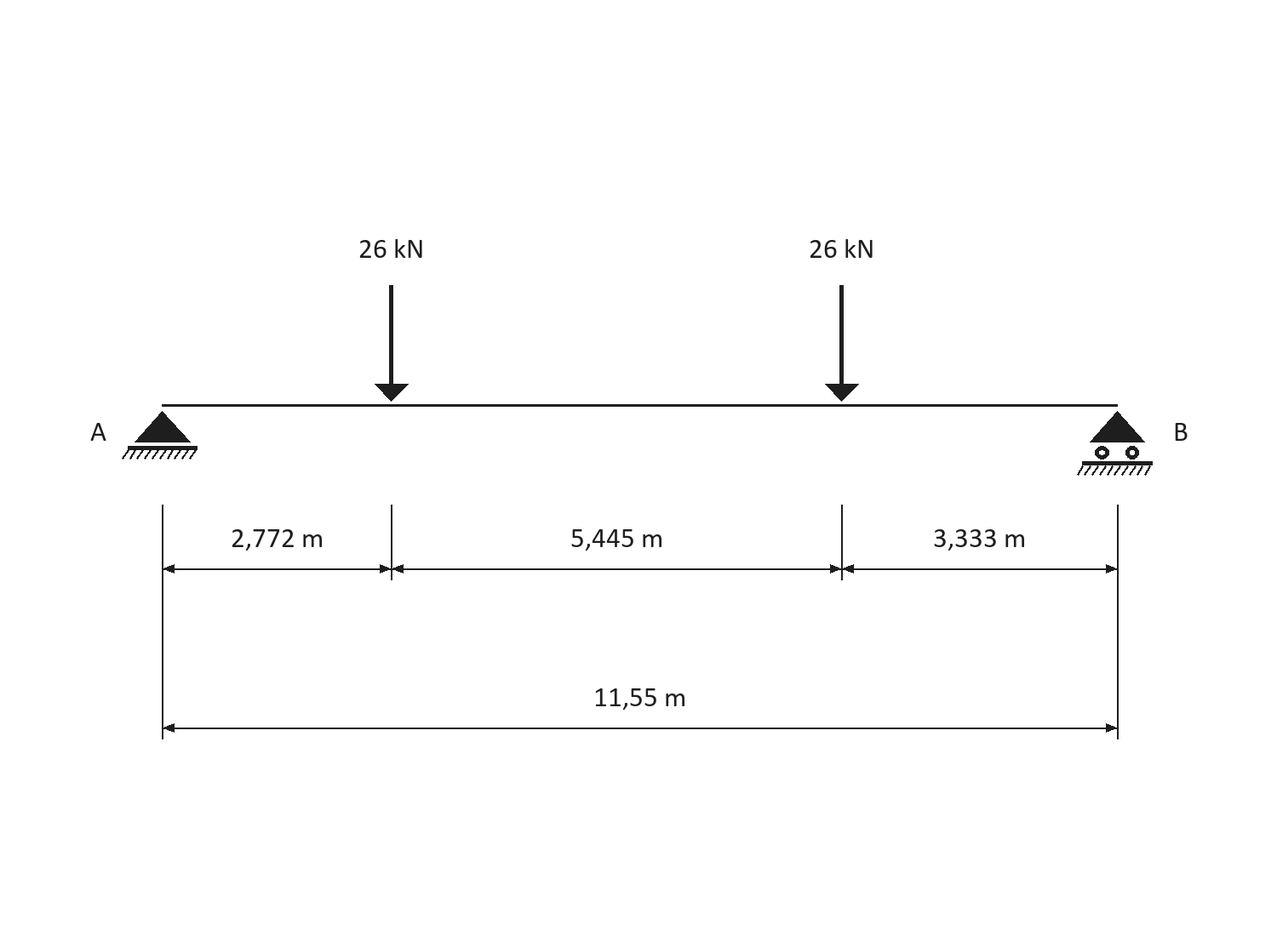pin_support: (122, 411, 198, 459)
point_load: (375, 285, 409, 402), (825, 285, 859, 402)
roller_support: (1077, 411, 1153, 476)
